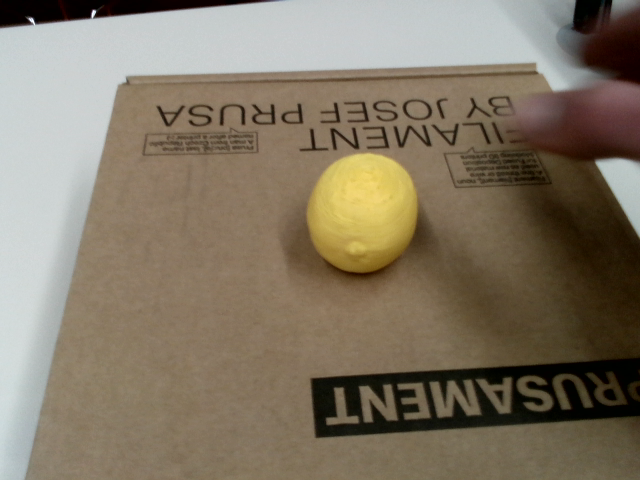lemon: (307, 153, 417, 272)
